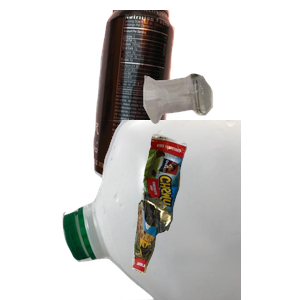glass: (141, 71, 300, 187)
metal: (91, 10, 258, 188)
plastic: (60, 120, 300, 300)
trash: (130, 131, 300, 300)
